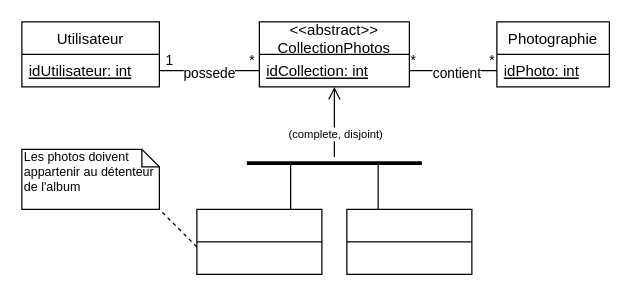
The diagram is 631 pixels wide and 296 high, and some of its shapes have lost their labels. Here are the shapes that lost their labels. From the top down, the centre of each, then its label:
pixel 259 241: Album
pixel 409 241: Galerie
